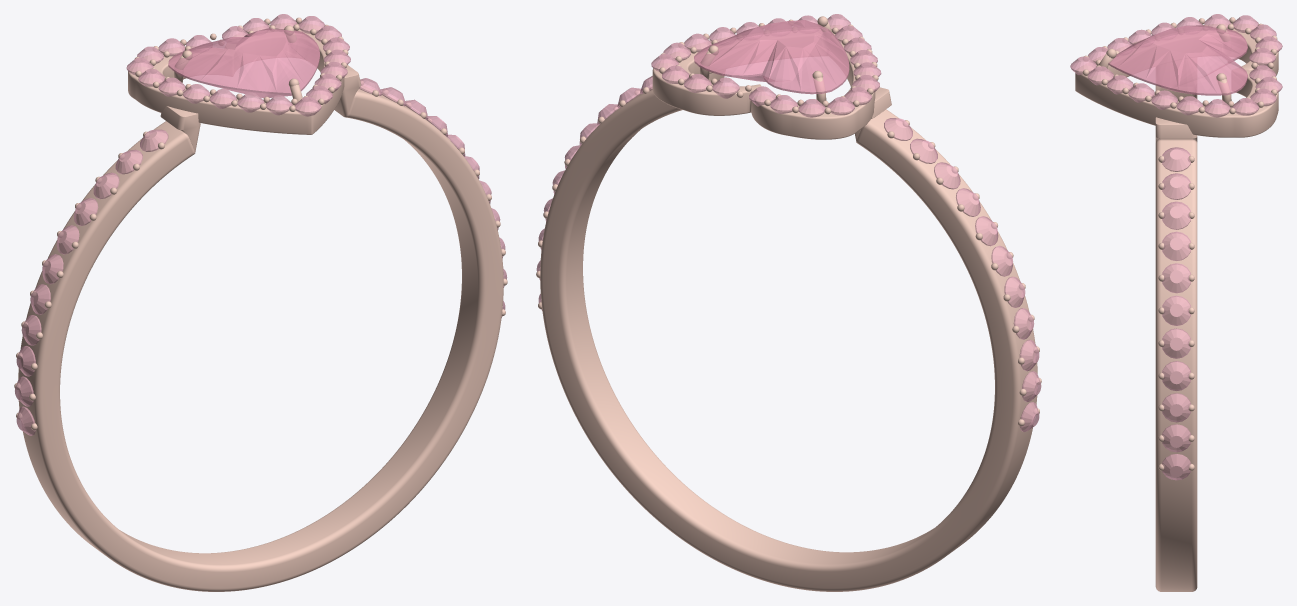
File: J003-detail-v03.glb
3 renders of one model, left to right at view 1: azimuth 30°, elevation 25°; view 2: azimuth 150°, elevation 25°; view 3: azimuth 270°, elevation 25°, orthographic. The views are drawn at different scales.
Visible parts, largest first — view 1: J003_Metal, J003_AccentStones, J003_MainStone; view 2: J003_Metal, J003_AccentStones, J003_MainStone; view 3: J003_Metal, J003_AccentStones, J003_MainStone.
Part boxes in pixels (<box>): J003_Metal: <box>14,17,507,591</box>; J003_AccentStones: <box>15,14,507,435</box>; J003_MainStone: <box>168,28,319,98</box>; J003_Metal: <box>536,16,1041,591</box>; J003_AccentStones: <box>536,14,1041,432</box>; J003_MainStone: <box>694,20,849,94</box>; J003_Metal: <box>1075,17,1278,591</box>; J003_AccentStones: <box>1070,14,1282,480</box>; J003_MainStone: <box>1108,25,1247,95</box>.
Bounding box in the file's own units: 0.0185 × 0.0195 × 0.00711.
